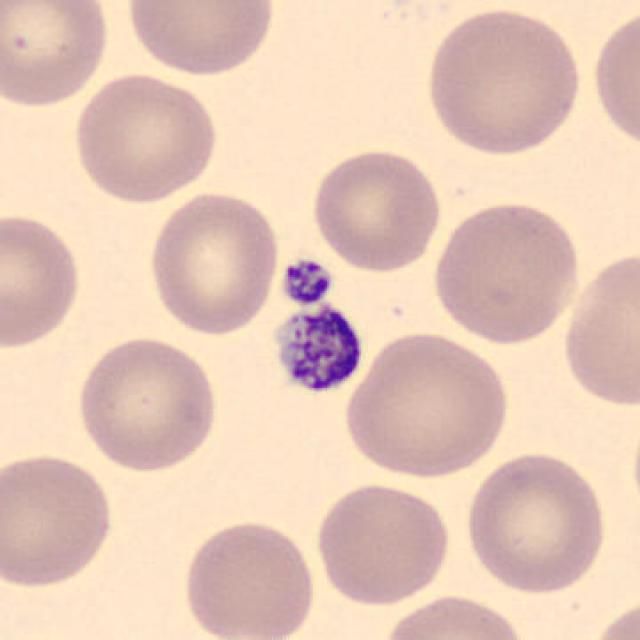Platelets: (267, 300, 368, 398), (277, 256, 336, 306)
RBC: (340, 326, 514, 481), (419, 3, 585, 158), (429, 196, 583, 347), (461, 448, 612, 596), (71, 333, 222, 476), (144, 187, 283, 337), (70, 68, 222, 204), (311, 478, 453, 610), (178, 516, 320, 640), (308, 145, 444, 273), (0, 447, 117, 590), (556, 245, 640, 411), (121, 0, 279, 79), (0, 0, 114, 109), (0, 208, 85, 352), (588, 3, 638, 157), (378, 590, 531, 640), (585, 594, 638, 640)
